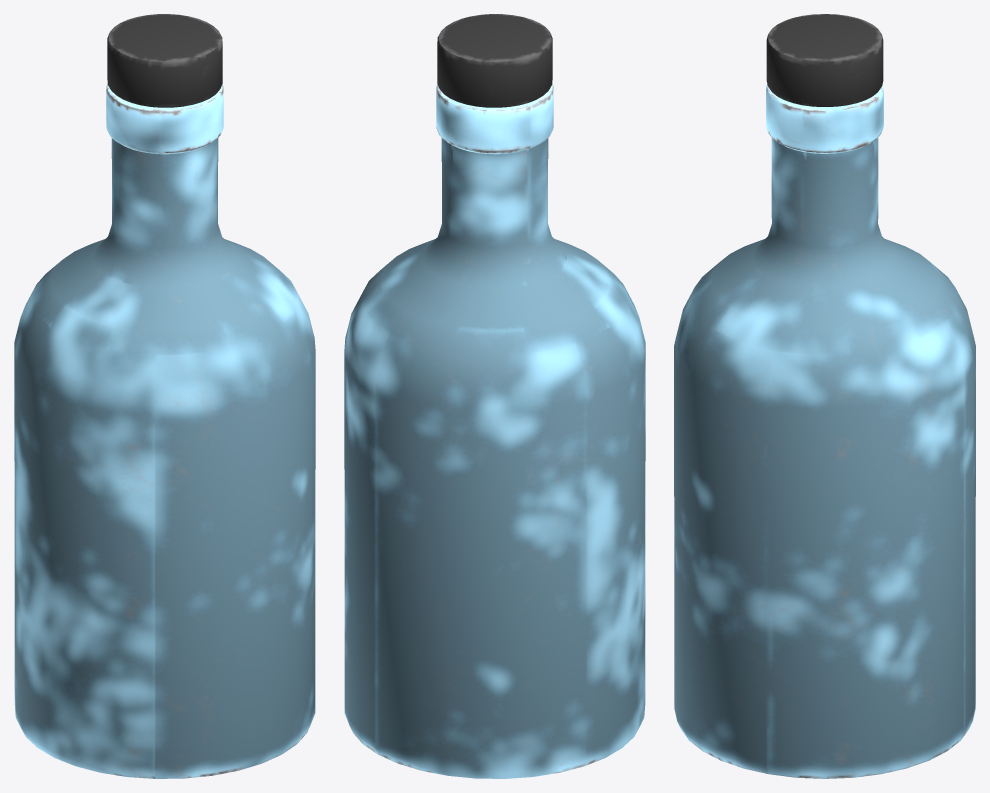
Rendered from Gin 2 .fbx.
3 renders of one model, left to right at view 1: azimuth 30°, elevation 25°; view 2: azimuth 150°, elevation 25°; view 3: azimuth 270°, elevation 25°, orthographic.
Parts seen in each view (by area): view 1: Cylinder.003; view 2: Cylinder.003; view 3: Cylinder.003.
Part boxes in pixels (<box>): Cylinder.003: <box>14,14,315,778</box>; Cylinder.003: <box>344,14,645,778</box>; Cylinder.003: <box>674,14,975,778</box>.
Size of the model in its own units: 14.68 by 36.67 by 14.68.
